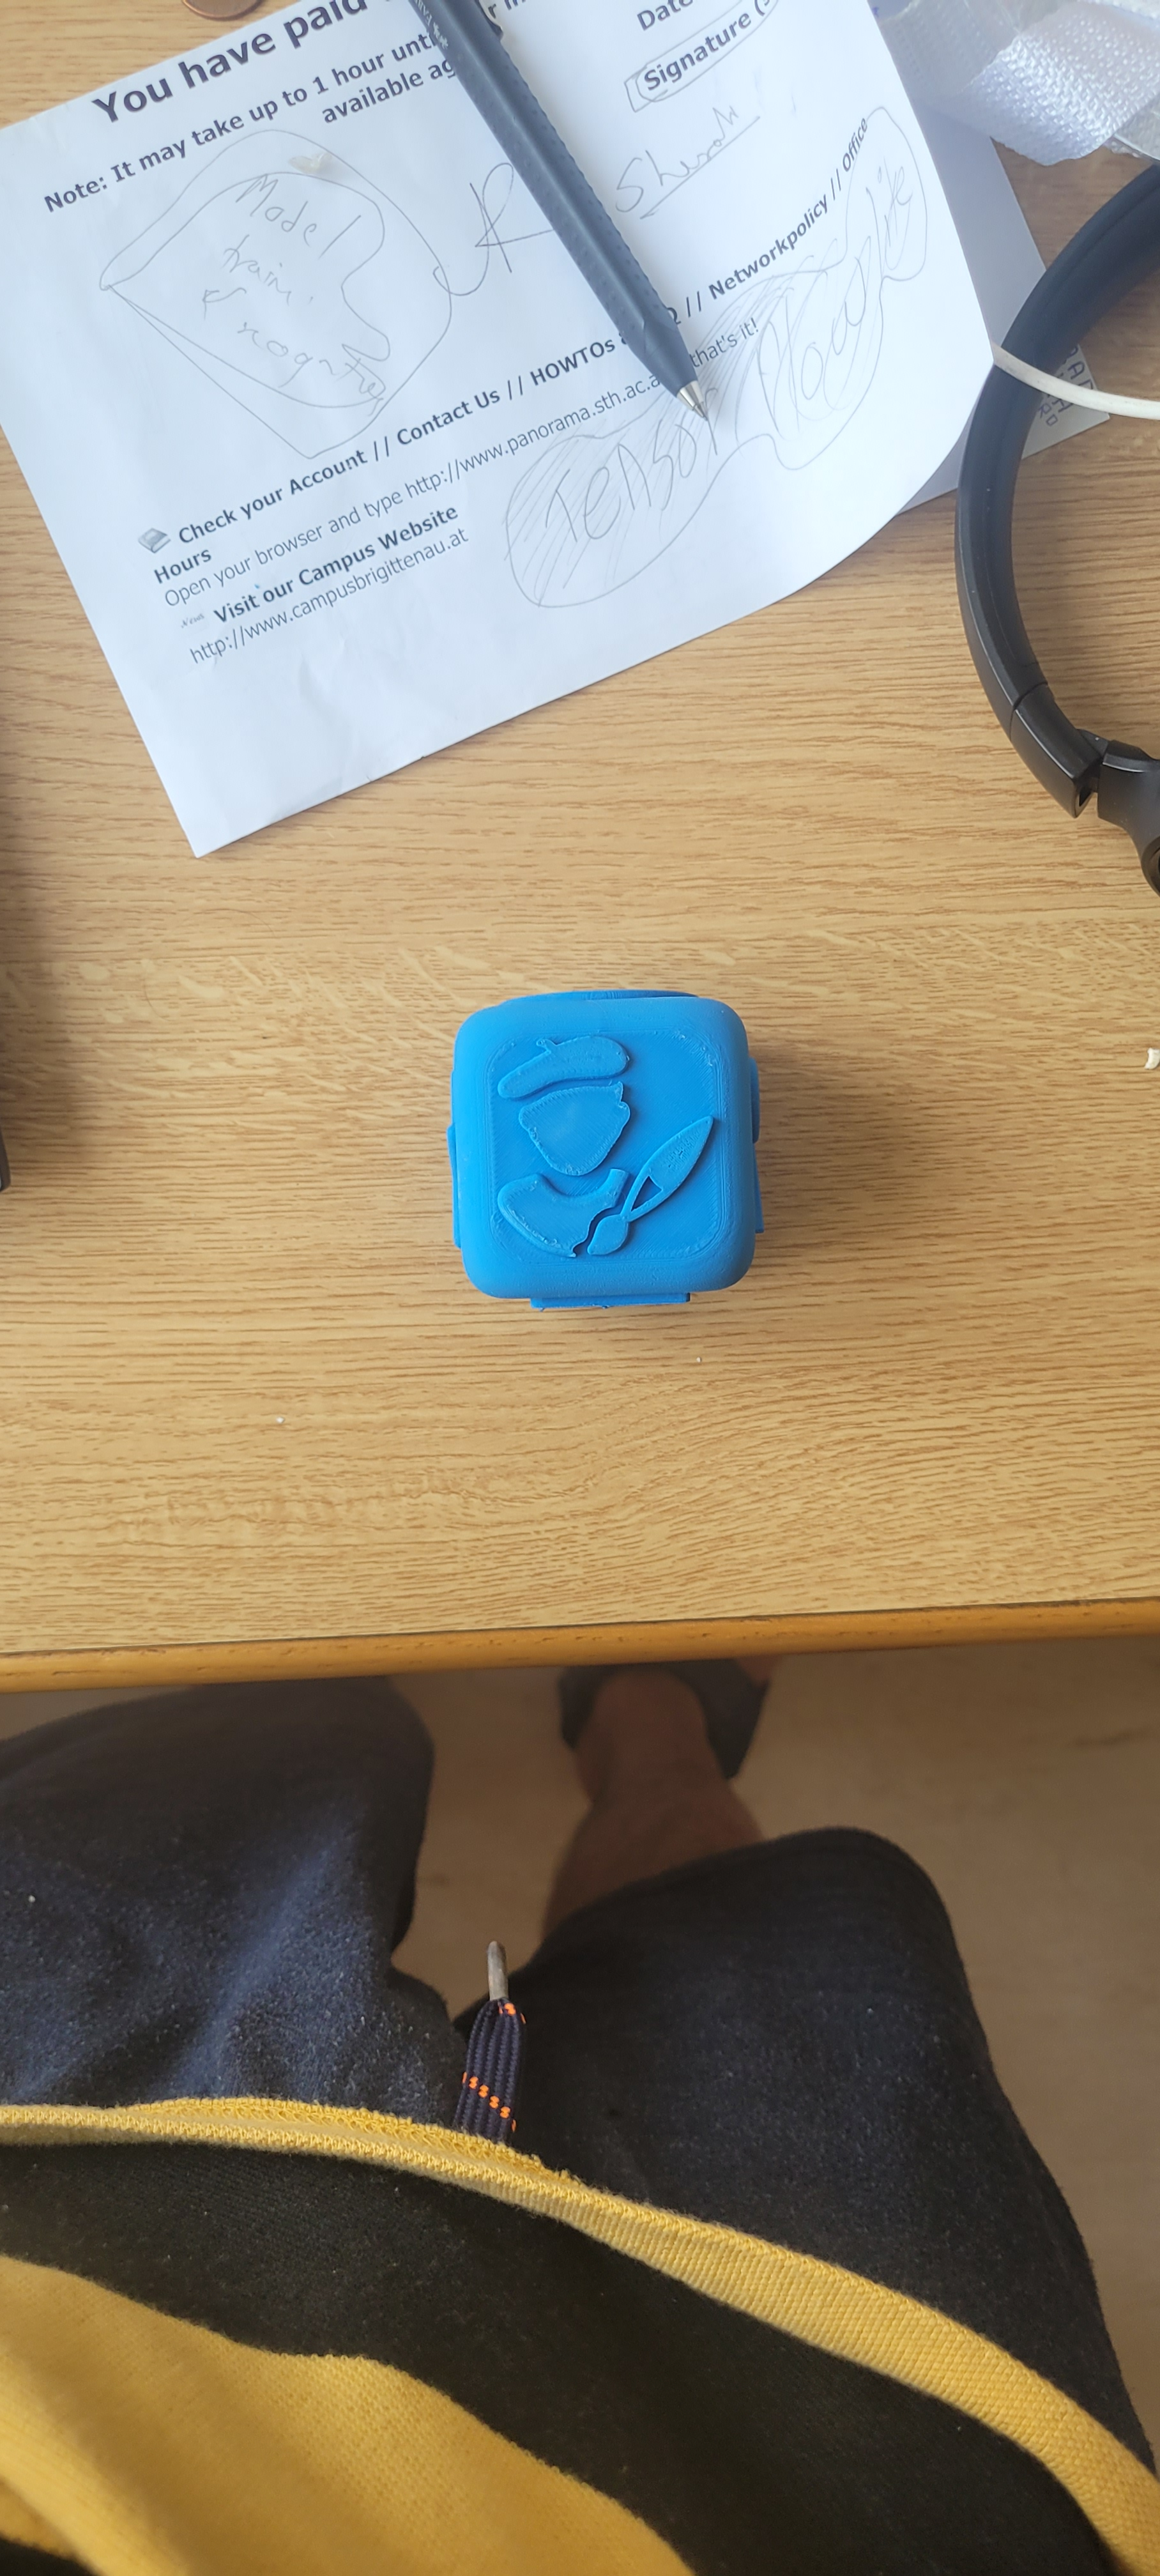Artist_Info: (451, 988, 783, 1308)
